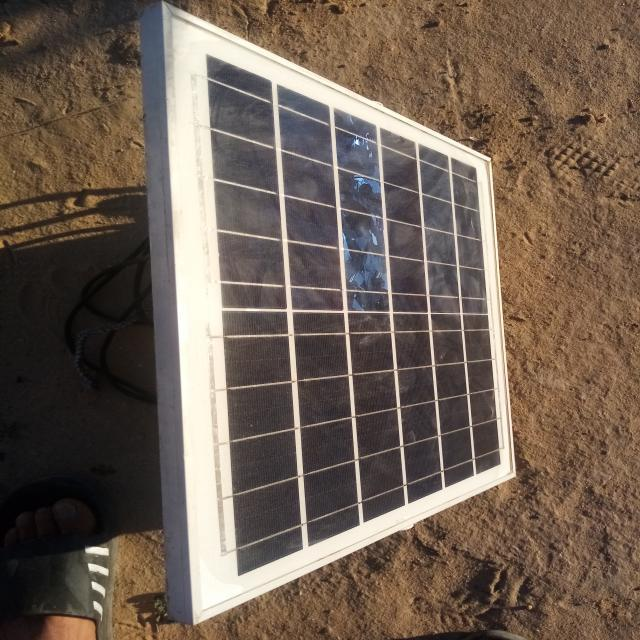faulty: (168, 6, 519, 622)
